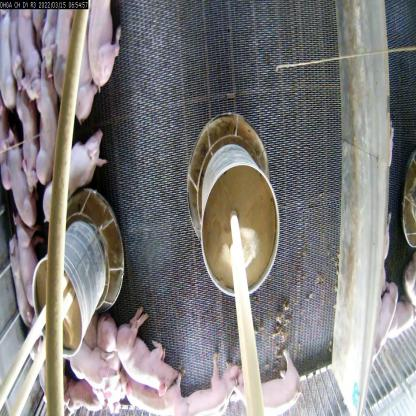Pig: (36, 117, 105, 226), (116, 310, 180, 395), (182, 359, 255, 415), (236, 353, 300, 416), (67, 14, 97, 136), (27, 62, 58, 180), (79, 0, 118, 93), (9, 143, 42, 247), (10, 209, 40, 320), (12, 86, 43, 185), (115, 373, 188, 415), (64, 336, 106, 394), (49, 0, 69, 106)
